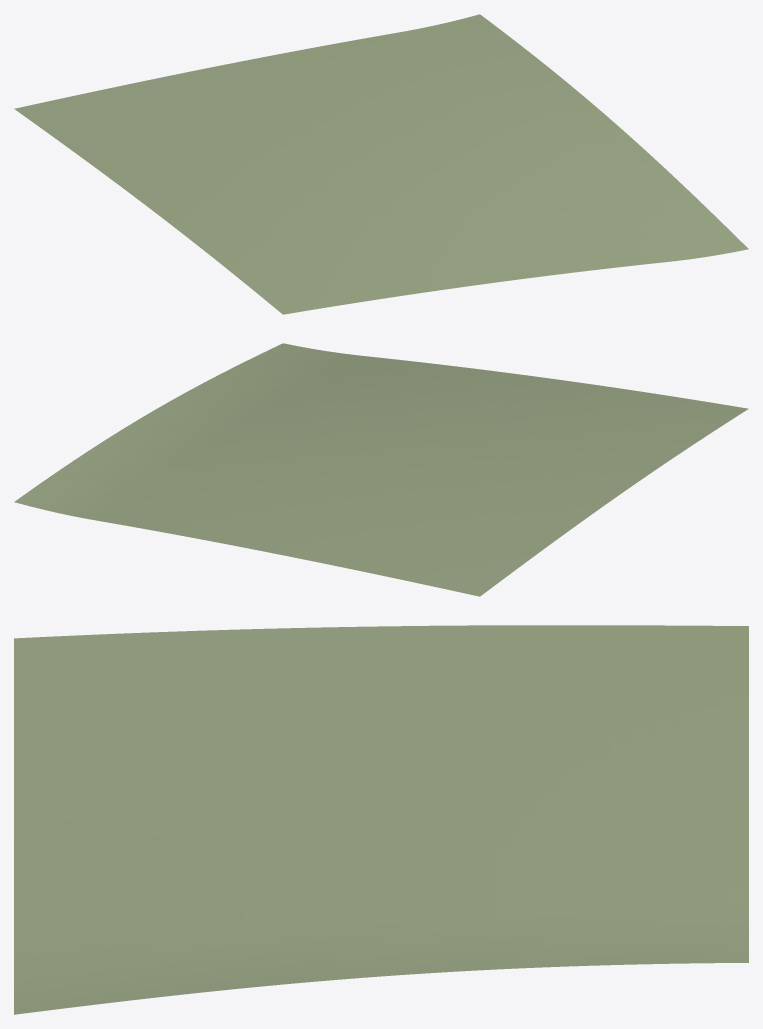
The model's file is expanse-23-14.glb.
3 views of the same model, one above another, from view 1: azimuth 30°, elevation 25°; view 2: azimuth 150°, elevation 25°; view 3: azimuth 270°, elevation 25° (orthographic). The views are drawn at different scales.
Parts seen in each view (by area): view 1: expanse-23-14; view 2: expanse-23-14; view 3: expanse-23-14.
Boxes of the visible parts, x1,y1,x2,y2 form: expanse-23-14: (14,14,748,314); expanse-23-14: (14,343,748,596); expanse-23-14: (14,625,748,1014).
Size of the model in its own units: 256 by 30.37 by 256.
